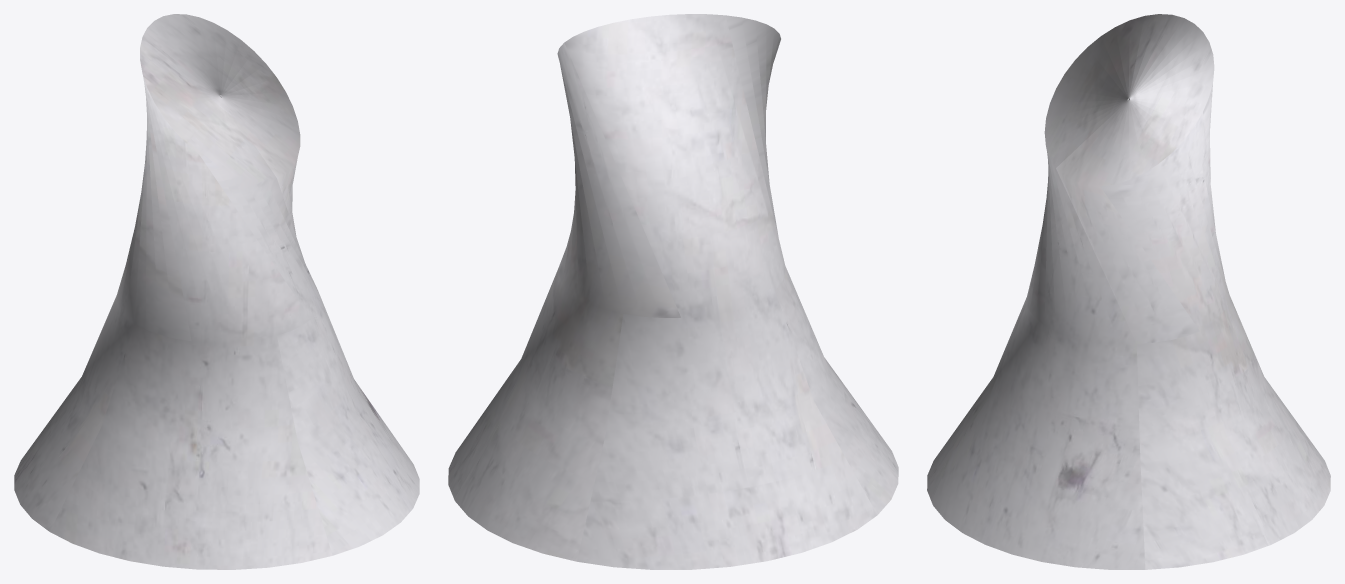
The model's file is whitebishop.obj.
3 renders of one model, left to right at view 1: azimuth 30°, elevation 25°; view 2: azimuth 150°, elevation 25°; view 3: azimuth 270°, elevation 25°, orthographic. The views are drawn at different scales.
Visible parts, largest first — view 1: Cube; view 2: Cube; view 3: Cube.
Boxes of the visible parts, x1=… form: Cube: x1=14, y1=14, x2=419, y2=569; Cube: x1=448, y1=14, x2=898, y2=569; Cube: x1=927, y1=14, x2=1330, y2=569.
Size of the model in its own units: 3.97 by 4.85 by 3.97.
